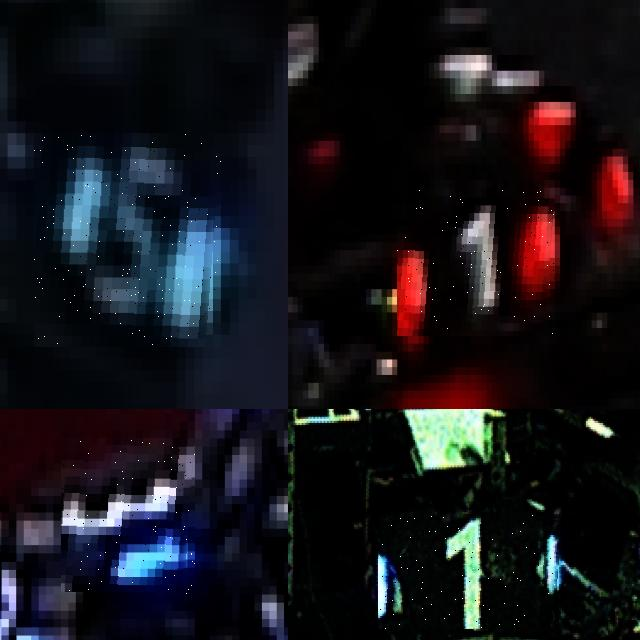B1: (378, 514, 562, 629)
B3: (61, 438, 195, 594), (0, 545, 31, 640)
B5: (34, 133, 221, 347)
R1: (397, 188, 555, 336)
